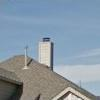Chimney: (33, 27, 60, 72)
